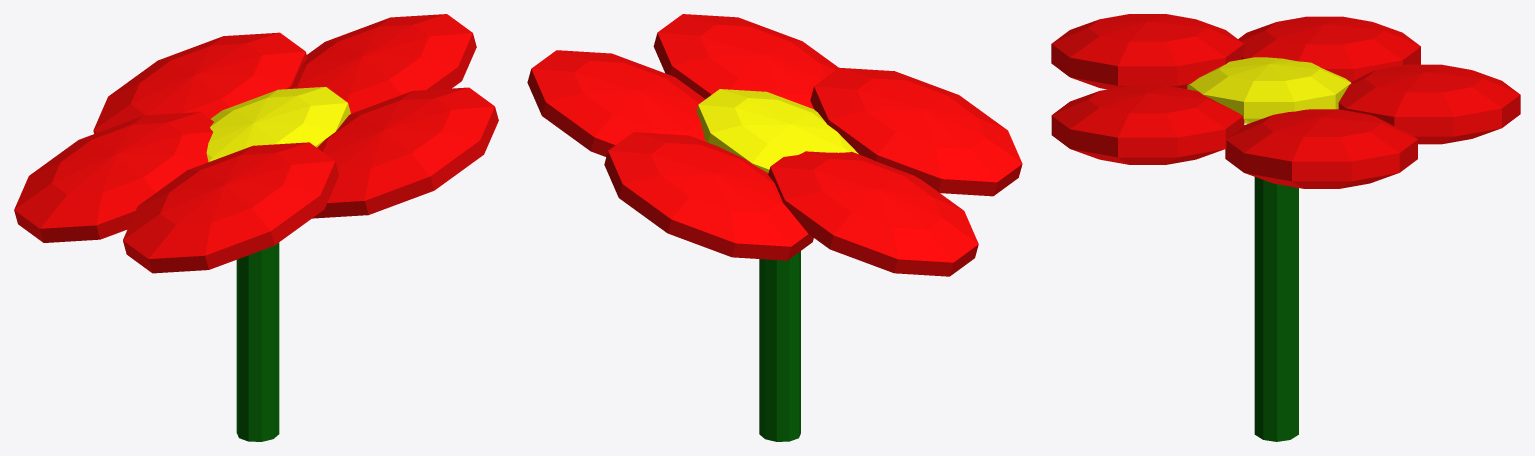
Rendered from flower_export.fbx.
3 renders of one model, left to right at view 1: azimuth 30°, elevation 25°; view 2: azimuth 150°, elevation 25°; view 3: azimuth 270°, elevation 25°, orthographic. The views are drawn at different scales.
Visible parts, largest first — view 1: Petal2, Petal1, Petal5, Petal4, Petal3, Stalk, Stamen; view 2: Petal1, Petal2, Petal3, Petal4, Petal5, Stamen, Stalk; view 3: Petal4, Petal5, Stalk, Petal2, Petal3, Petal1, Stamen.
Part boxes in pixels (x1=…): Petal2: x1=123, y1=142, x2=338, y2=273; Petal1: x1=14, y1=112, x2=213, y2=242; Petal5: x1=312, y1=87, x2=498, y2=218; Petal4: x1=291, y1=14, x2=476, y2=113; Petal3: x1=93, y1=32, x2=307, y2=133; Stalk: x1=236, y1=242, x2=279, y2=441; Stamen: x1=206, y1=87, x2=350, y2=161; Petal1: x1=768, y1=151, x2=978, y2=276; Petal2: x1=810, y1=67, x2=1022, y2=196; Petal3: x1=604, y1=132, x2=813, y2=260; Petal4: x1=527, y1=50, x2=705, y2=156; Petal5: x1=653, y1=14, x2=838, y2=108; Stamen: x1=696, y1=89, x2=858, y2=173; Stalk: x1=759, y1=251, x2=800, y2=441; Petal4: x1=1225, y1=109, x2=1417, y2=188; Petal5: x1=1051, y1=85, x2=1244, y2=164; Stalk: x1=1254, y1=177, x2=1298, y2=441; Petal2: x1=1051, y1=14, x2=1244, y2=89; Petal3: x1=1338, y1=64, x2=1520, y2=144; Petal1: x1=1238, y1=16, x2=1420, y2=81; Stamen: x1=1187, y1=57, x2=1351, y2=123.
Size of the model in its own units: 4.87 by 3.67 by 3.93.
